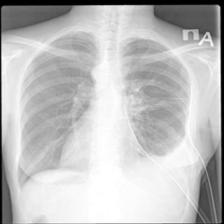tuberculosis: (15, 29, 194, 189)
